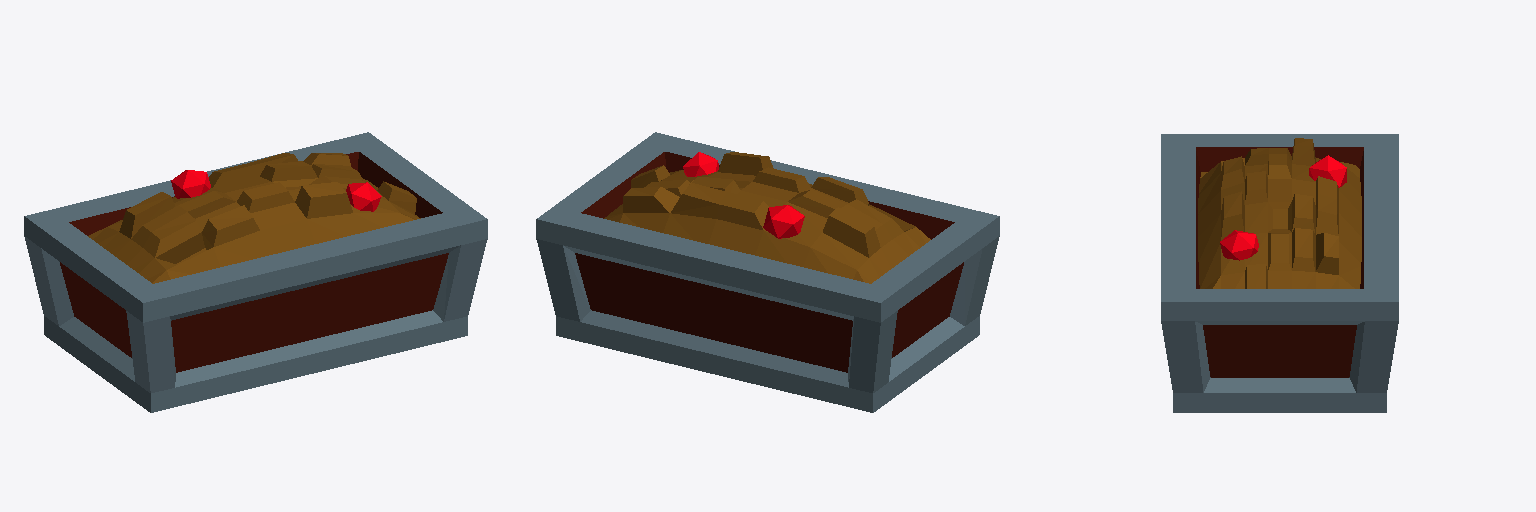
The model's file is chest_uncommon.obj.
3 views of the same model, side by side, from view 1: azimuth 30°, elevation 25°; view 2: azimuth 150°, elevation 25°; view 3: azimuth 270°, elevation 25° (orthographic).
Visible parts, largest first — view 1: chest_uncommon_Cube.2494; view 2: chest_uncommon_Cube.2494; view 3: chest_uncommon_Cube.2494.
Boxes of the visible parts, x1,y1,x2,y2 form: chest_uncommon_Cube.2494: [24, 132, 487, 412]; chest_uncommon_Cube.2494: [536, 132, 999, 412]; chest_uncommon_Cube.2494: [1161, 134, 1398, 412].
Bounding box in the file's own units: 1.84 × 0.8099 × 1.1.